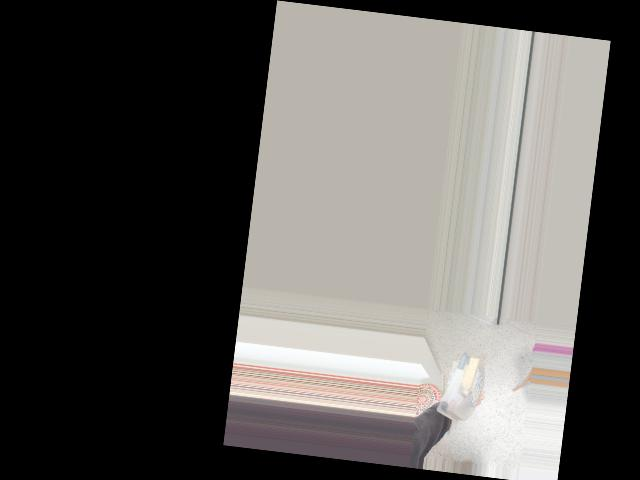cheese: (430, 347, 487, 422)
